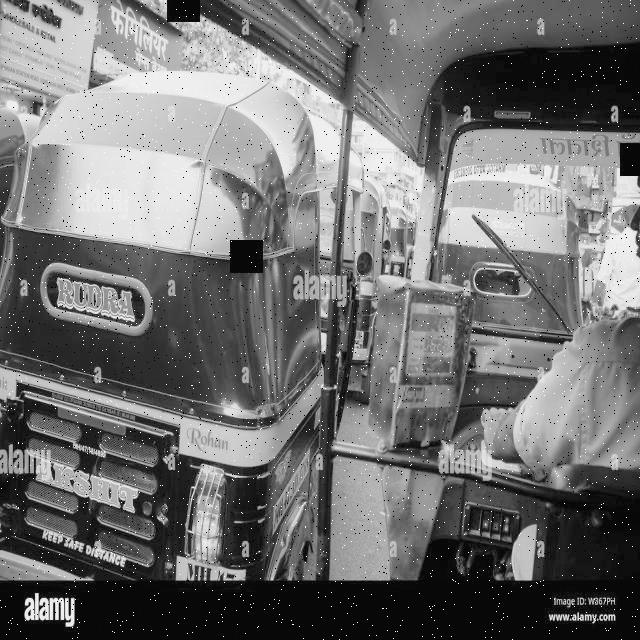Auto-Rickshaw: (13, 35, 395, 631)
